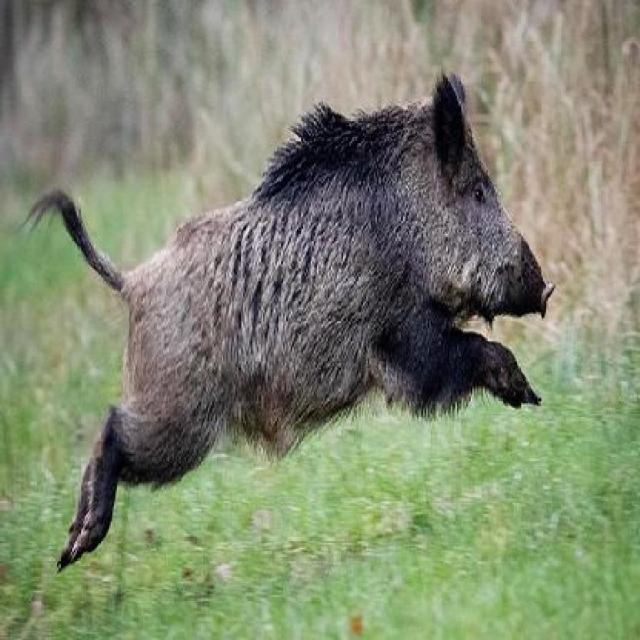wildboar: (18, 63, 557, 582)
